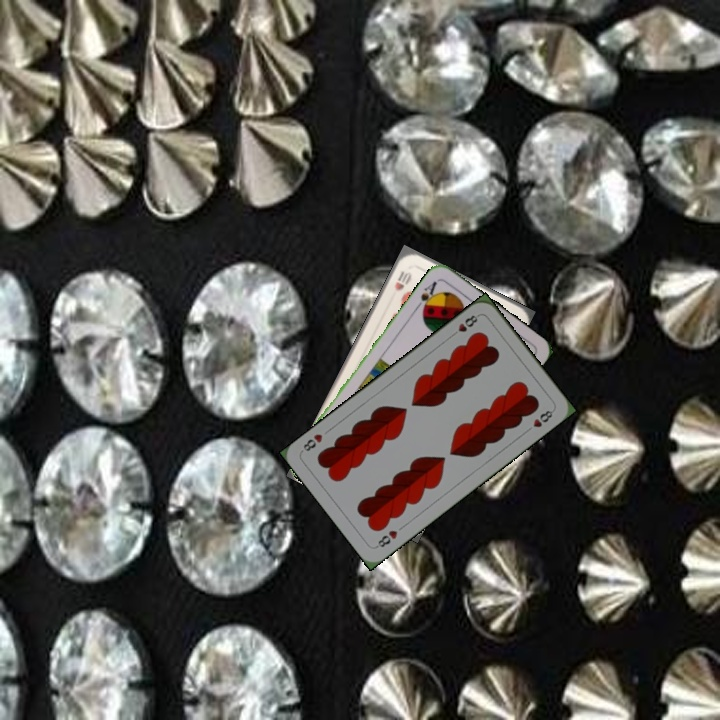H10: (390, 267, 414, 293)
H8: (447, 310, 482, 340), (372, 526, 400, 551)
SA: (412, 277, 441, 315)
